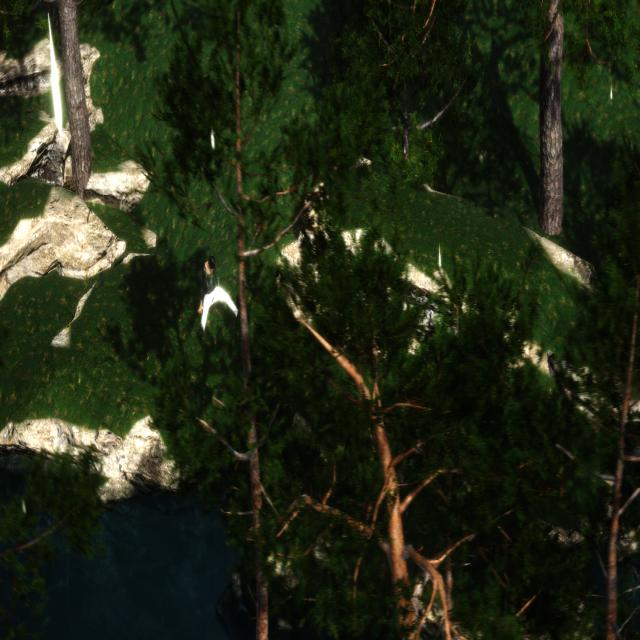Human: (196, 252, 244, 338)
